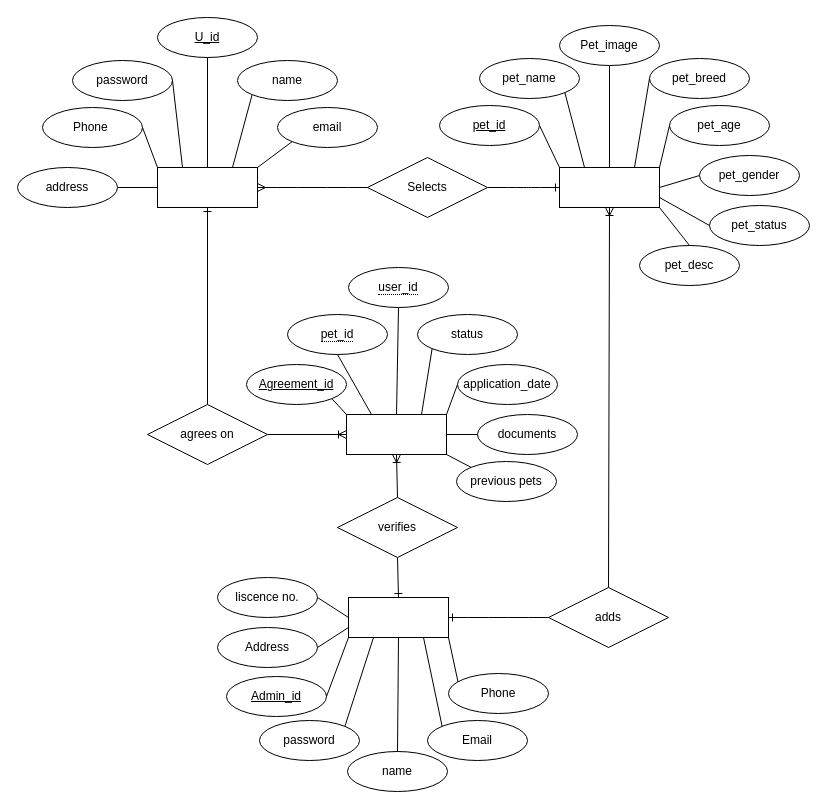
Some shapes in this 827 by 809 pixel diagram are drawn without their labels. The shapes that lost their labels are listed below. From the top down, each one's box as (x1, y1, x2, y2) in pixels, then its label:
(156, 166, 258, 208): Adopter
(558, 166, 660, 208): pet
(346, 414, 446, 454): agreement_form
(348, 596, 448, 638): Admin/Shelter
